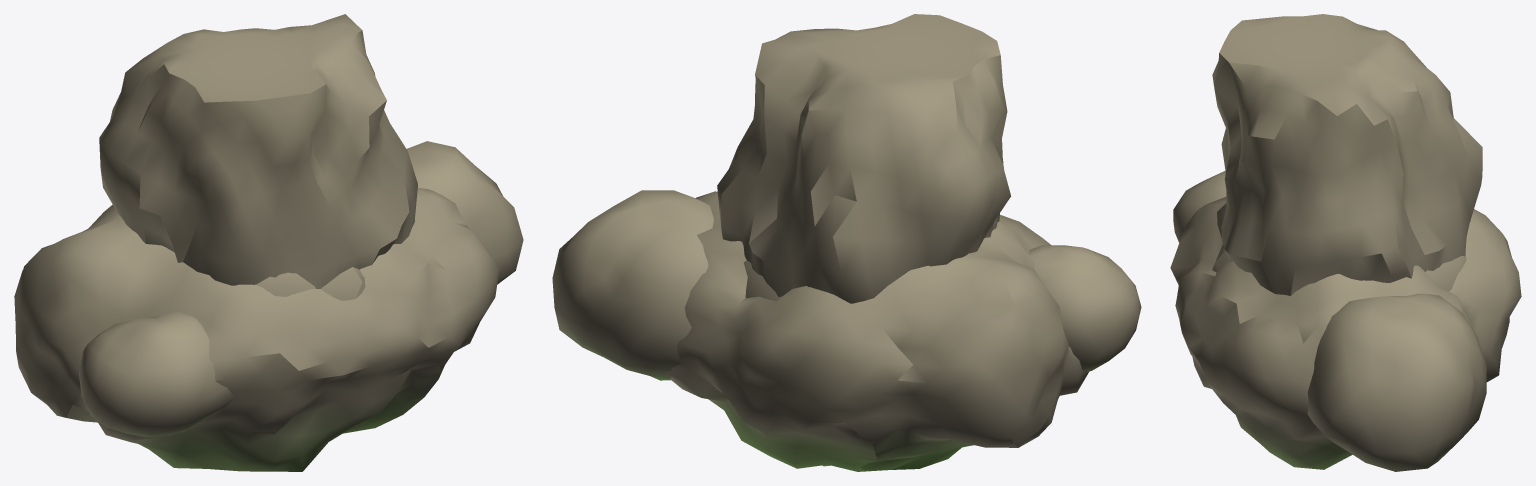
Rendered from rocas-pradera.glb.
The picture shows the model from 3 angles, left to right: view 1: azimuth 30°, elevation 25°; view 2: azimuth 150°, elevation 25°; view 3: azimuth 270°, elevation 25°; orthographic projection. The views are drawn at different scales.
Parts seen in each view (by area): view 1: Roca A, Roca B, Roca C; view 2: Roca A, Roca B, Roca C; view 3: Roca B, Roca A, Roca C.
Part boxes in pixels (box(x1,y1,x2,y2)): Roca A: box(14, 188, 499, 471); Roca B: box(99, 14, 417, 288); Roca C: box(79, 141, 523, 436); Roca A: box(664, 191, 1088, 471); Roca B: box(717, 14, 1010, 470); Roca C: box(552, 190, 1141, 380); Roca B: box(1212, 14, 1482, 296); Roca A: box(1170, 197, 1521, 469); Roca C: box(1173, 171, 1486, 471).
Bounding box in the file's own units: 1.73 × 1.33 × 1.13.
